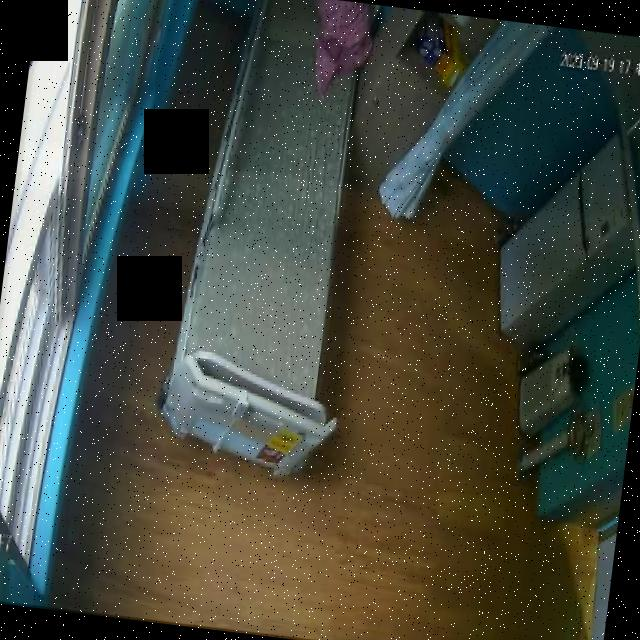bed: (161, 0, 375, 470)
